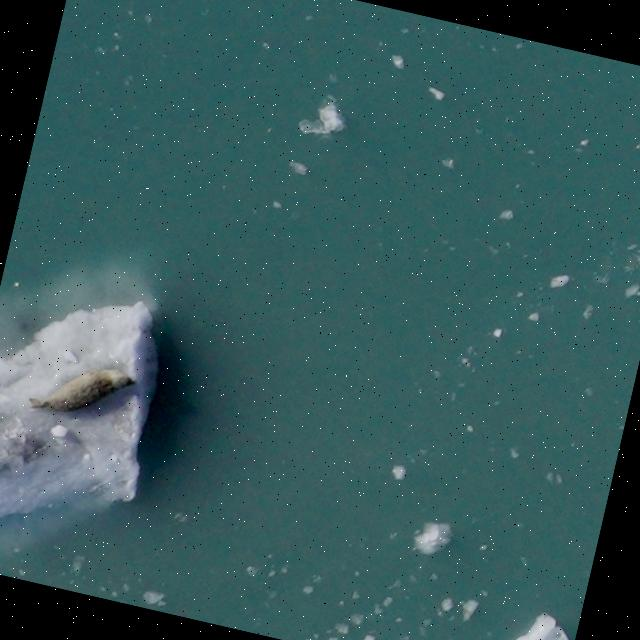seal: (18, 344, 145, 436)
